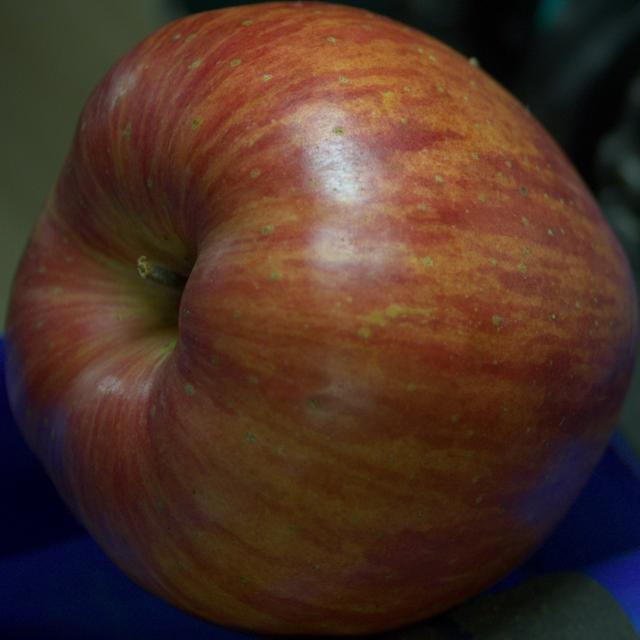apple: (5, 2, 638, 636)
